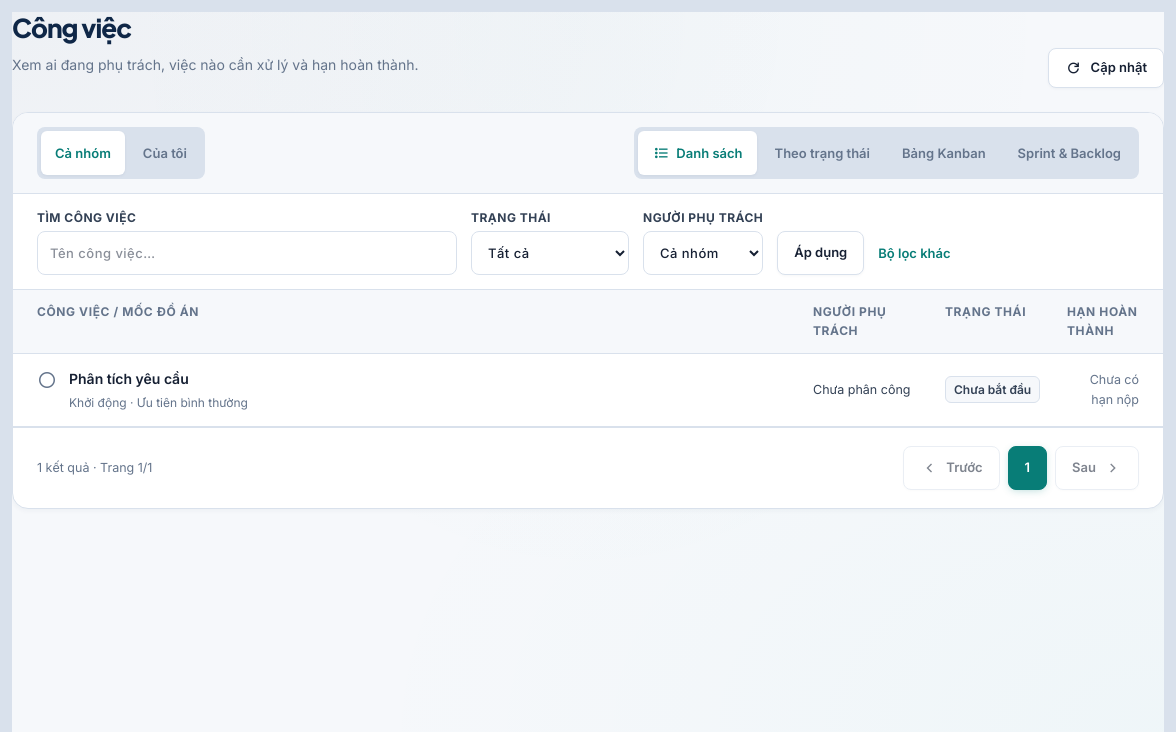
Scenario: TaskBoardPage › keeps Kanban cards readable but not draggable in read-only mode
Expected: the text "Phân tích yêu cầu" is shown, [69,370,189,387]
Click the button "Bảng Kanban" at (944, 153), box [888,131,1000,175]
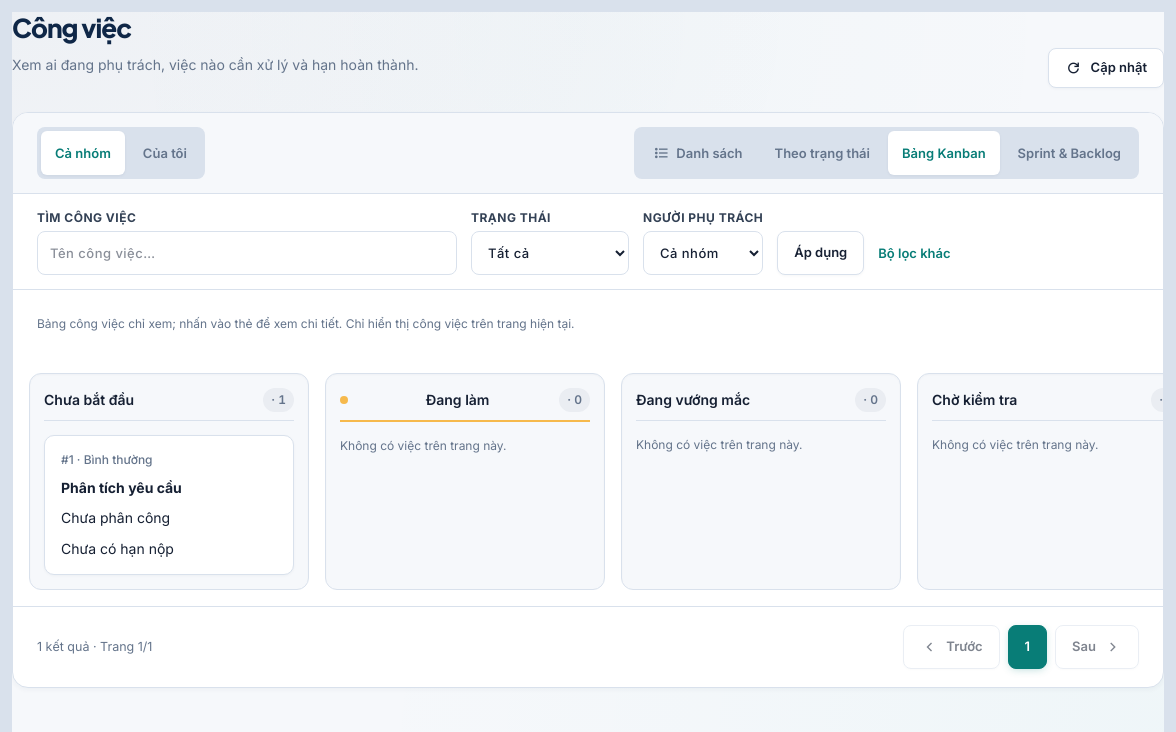
Expected: the text "Bảng công việc chỉ xem" is shown, [37,316,342,331]
